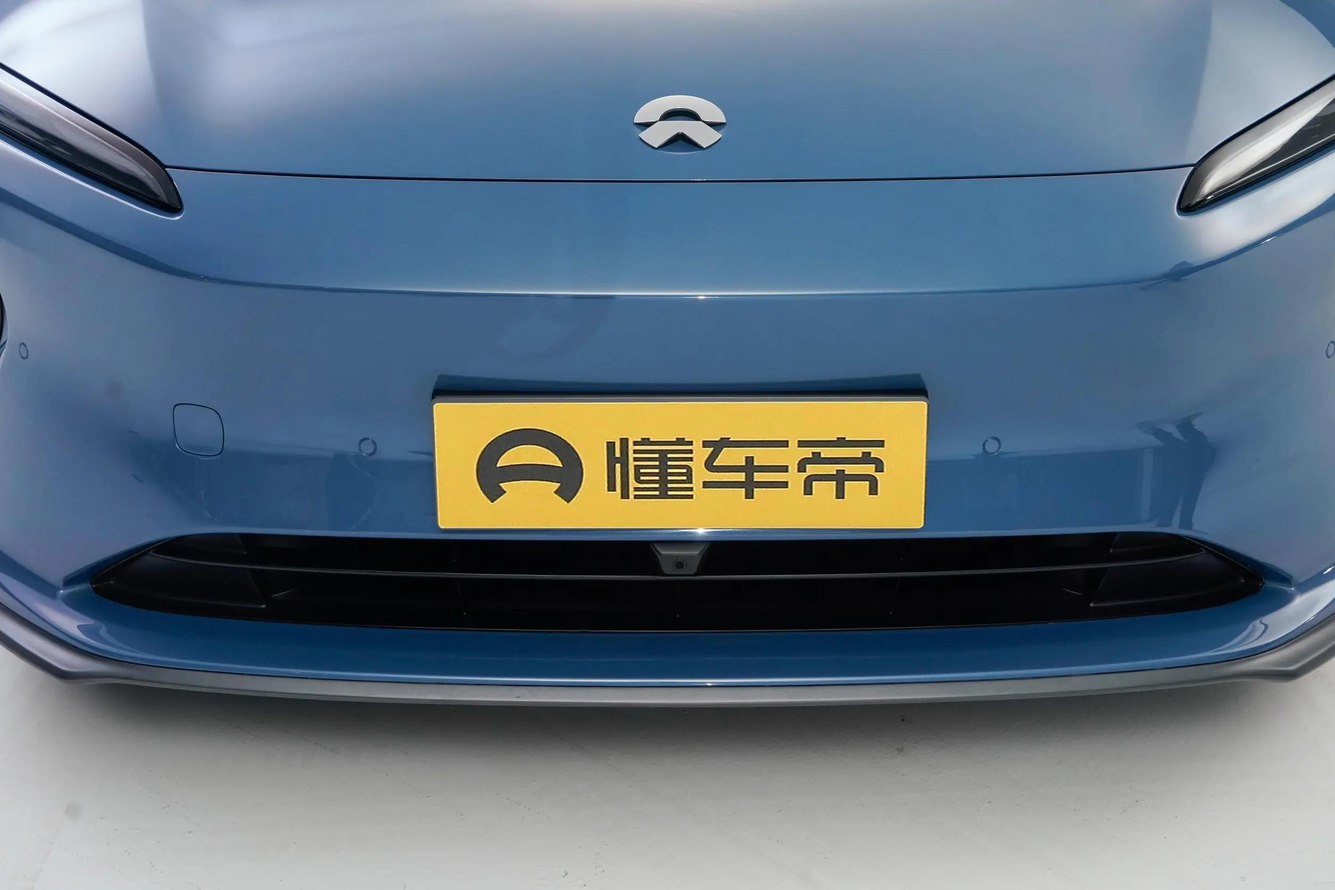NIO: (633, 94, 727, 151)
